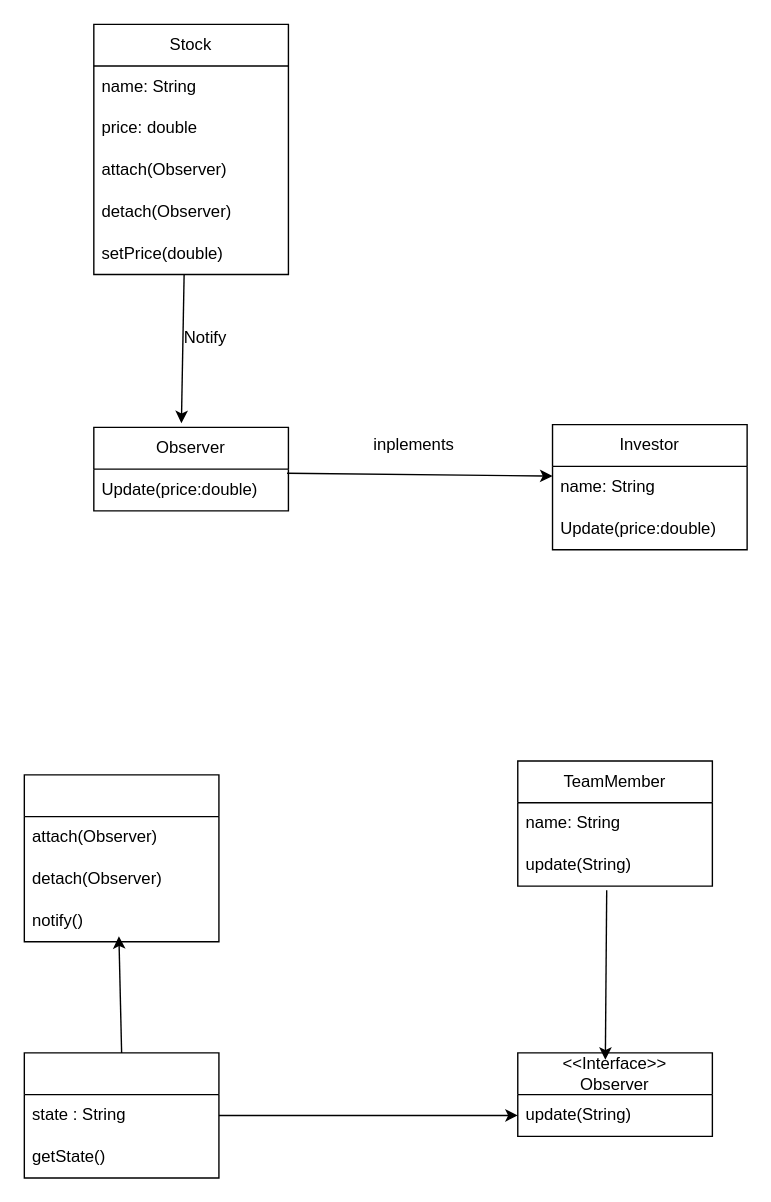
Some shapes in this 771 by 1202 pixel diagram are drawn without their labels. Here are the shapes that lost their labels. From the top down, the box of each, then its label:
(23, 774, 219, 942): <<Interface>> Subject
(23, 1052, 219, 1178): Task
